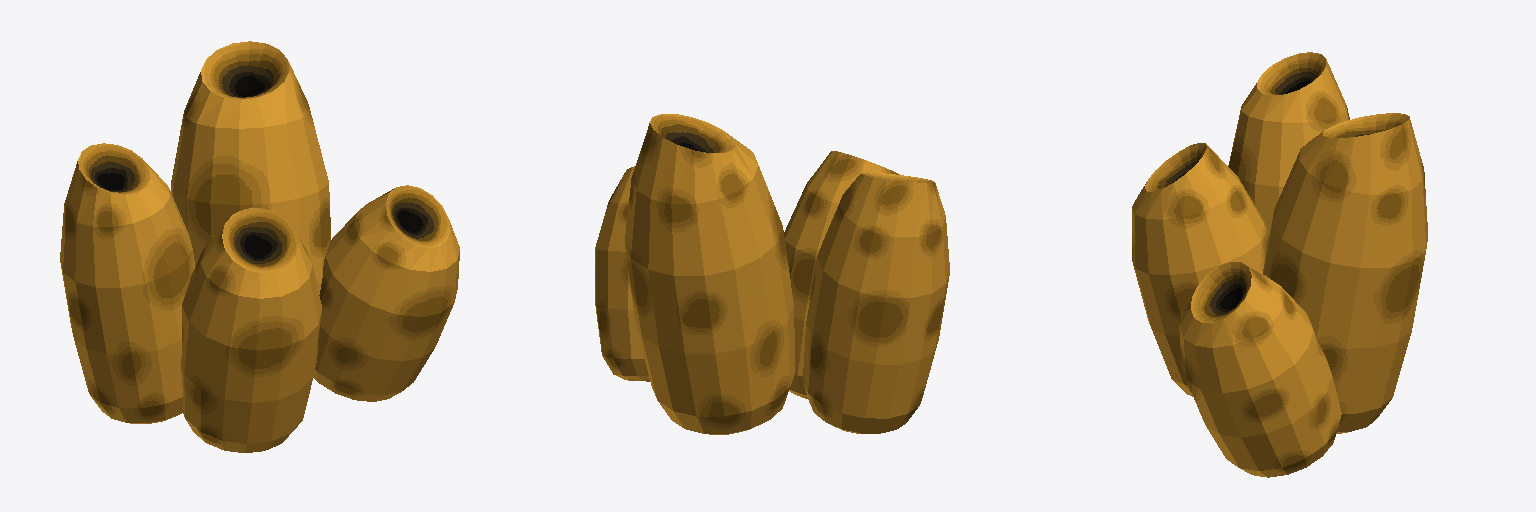
3 views of the same model, side by side, from view 1: azimuth 30°, elevation 25°; view 2: azimuth 150°, elevation 25°; view 3: azimuth 270°, elevation 25° (orthographic).
Visible parts, largest first — view 1: Sponge; view 2: Sponge; view 3: Sponge.
Part boxes in pixels (bbox=[...]): Sponge: bbox=[60, 41, 459, 452]; Sponge: bbox=[595, 114, 949, 434]; Sponge: bbox=[1132, 52, 1427, 477].
Bounding box in the file's own units: 10.57 × 8.86 × 7.57.
2 materials, 2 textured.